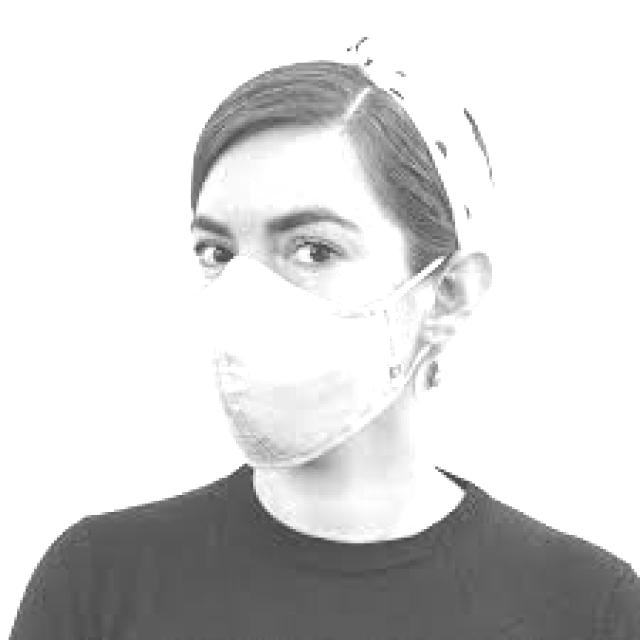fake: (116, 258, 488, 472)
real: (189, 126, 408, 478)
